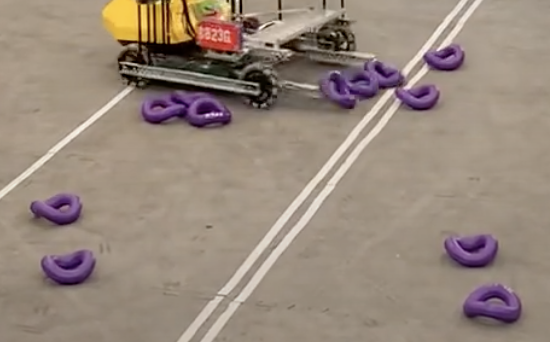ring: (463, 282, 522, 323), (444, 233, 499, 268), (41, 250, 97, 284), (29, 193, 82, 225), (320, 70, 356, 110), (187, 97, 234, 125), (394, 85, 440, 110), (142, 98, 187, 122), (364, 58, 404, 85), (425, 44, 465, 70), (344, 72, 379, 97), (171, 88, 209, 104)
